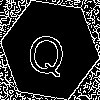Q: (25, 25, 68, 78)
